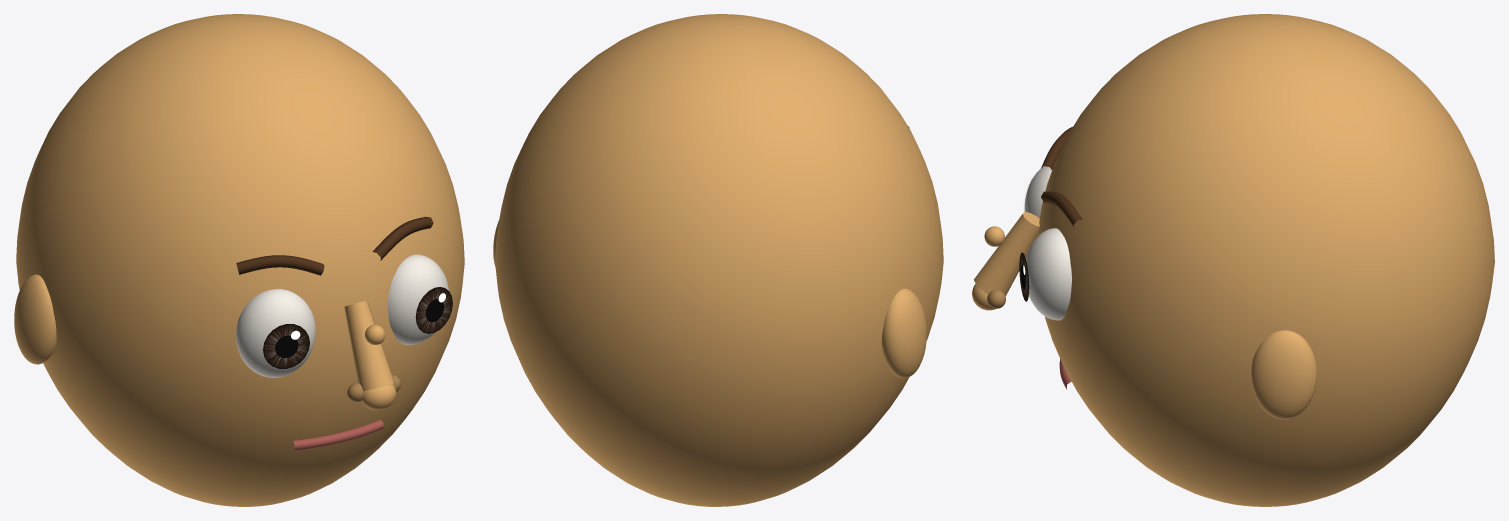
The model's file is 06-aquilin.glb.
3 renders of one model, left to right at view 1: azimuth 30°, elevation 25°; view 2: azimuth 150°, elevation 25°; view 3: azimuth 270°, elevation 25°, orthographic.
Size of the model in its own units: 0.3087 by 0.321 by 0.3312.
9 materials, 1 textured.
